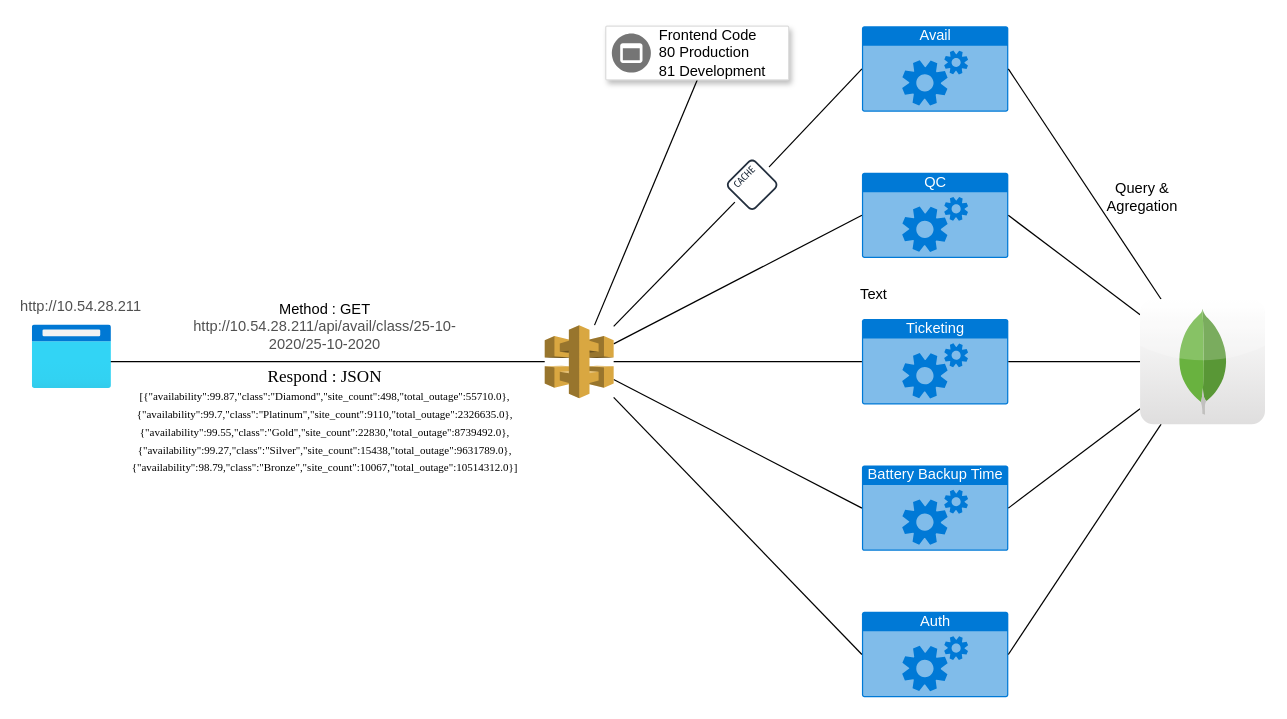
Image size: 1287x719. Some labels were removed from this diagram. The shapes that lost their labels are listed below. From the top down, each one's centre as x and y in pixels, then its label:
pixel 751 184: Cache node
pixel 579 361: API Gateway
pixel 1202 361: Mongodb
